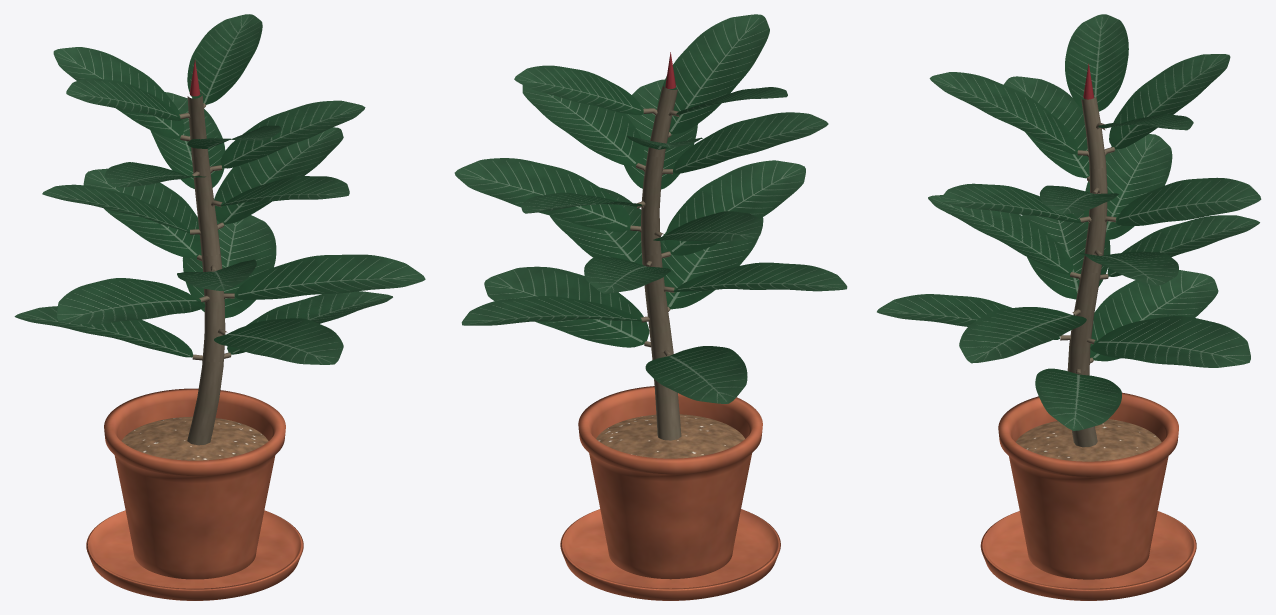
Rendered from ficus.glb.
The picture shows the model from 3 angles, left to right: view 1: azimuth 30°, elevation 25°; view 2: azimuth 150°, elevation 25°; view 3: azimuth 270°, elevation 25°; orthographic projection. The views are drawn at different scales.
Visible parts, largest first — view 1: piece-0, piece-1, piece-3, piece-9, piece-8, piece-12, piece-2, piece-6, piece-20, piece-10, piece-17, piece-18 (+11 smaller); view 2: piece-0, piece-1, piece-19, piece-12, piece-3, piece-4, piece-11, piece-2, piece-16, piece-5, piece-17, piece-8 (+10 smaller); view 3: piece-0, piece-1, piece-7, piece-3, piece-5, piece-18, piece-15, piece-21, piece-9, piece-19, piece-13, piece-2 (+11 smaller).
Part boxes in pixels (<box>): piece-0: <box>104,388,285,579</box>; piece-1: <box>86,510,303,600</box>; piece-3: <box>187,93,225,445</box>; piece-9: <box>234,254,425,299</box>; piece-8: <box>57,278,205,324</box>; piece-12: <box>214,127,343,224</box>; piece-2: <box>121,416,268,460</box>; piece-6: <box>214,318,343,364</box>; piece-20: <box>187,14,262,104</box>; piece-10: <box>83,168,201,257</box>; piece-17: <box>220,100,365,168</box>; piece-18: <box>53,47,184,138</box>; piece-0: <box>578,386,762,579</box>; piece-1: <box>560,509,780,600</box>; piece-19: <box>657,14,769,134</box>; piece-12: <box>454,158,630,232</box>; piece-3: <box>641,85,681,440</box>; piece-4: <box>484,266,649,347</box>; piece-11: <box>664,160,805,255</box>; piece-2: <box>596,414,744,458</box>; piece-16: <box>673,112,828,173</box>; piece-5: <box>645,346,747,403</box>; piece-17: <box>522,85,644,165</box>; piece-8: <box>673,262,847,291</box>; piece-0: <box>998,392,1178,579</box>; piece-1: <box>980,511,1196,600</box>; piece-7: <box>1090,316,1250,367</box>; piece-3: <box>1067,97,1107,447</box>; piece-5: <box>1090,270,1218,361</box>; piece-18: <box>1109,54,1230,149</box>; piece-15: <box>1116,177,1261,225</box>; piece-21: <box>1065,14,1128,111</box>; piece-9: <box>959,307,1086,363</box>; piece-19: <box>929,72,1077,154</box>; piece-13: <box>1083,134,1172,240</box>; piece-2: <box>1015,419,1161,461</box>.
Bounding box in the file's own units: 0.3595 × 0.498 × 0.3495.
5 materials, 4 textured.
